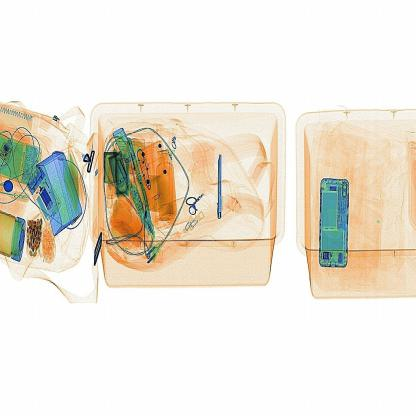pliers: (207, 146, 231, 230)
